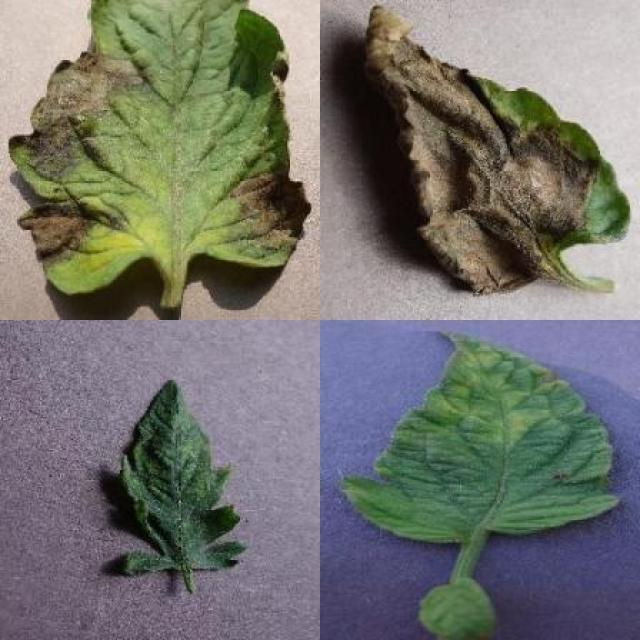Late Blight: (7, 0, 314, 297), (363, 2, 630, 294)
Leaf Mold: (337, 332, 623, 545)
Mosaic Virus: (115, 377, 248, 582)
